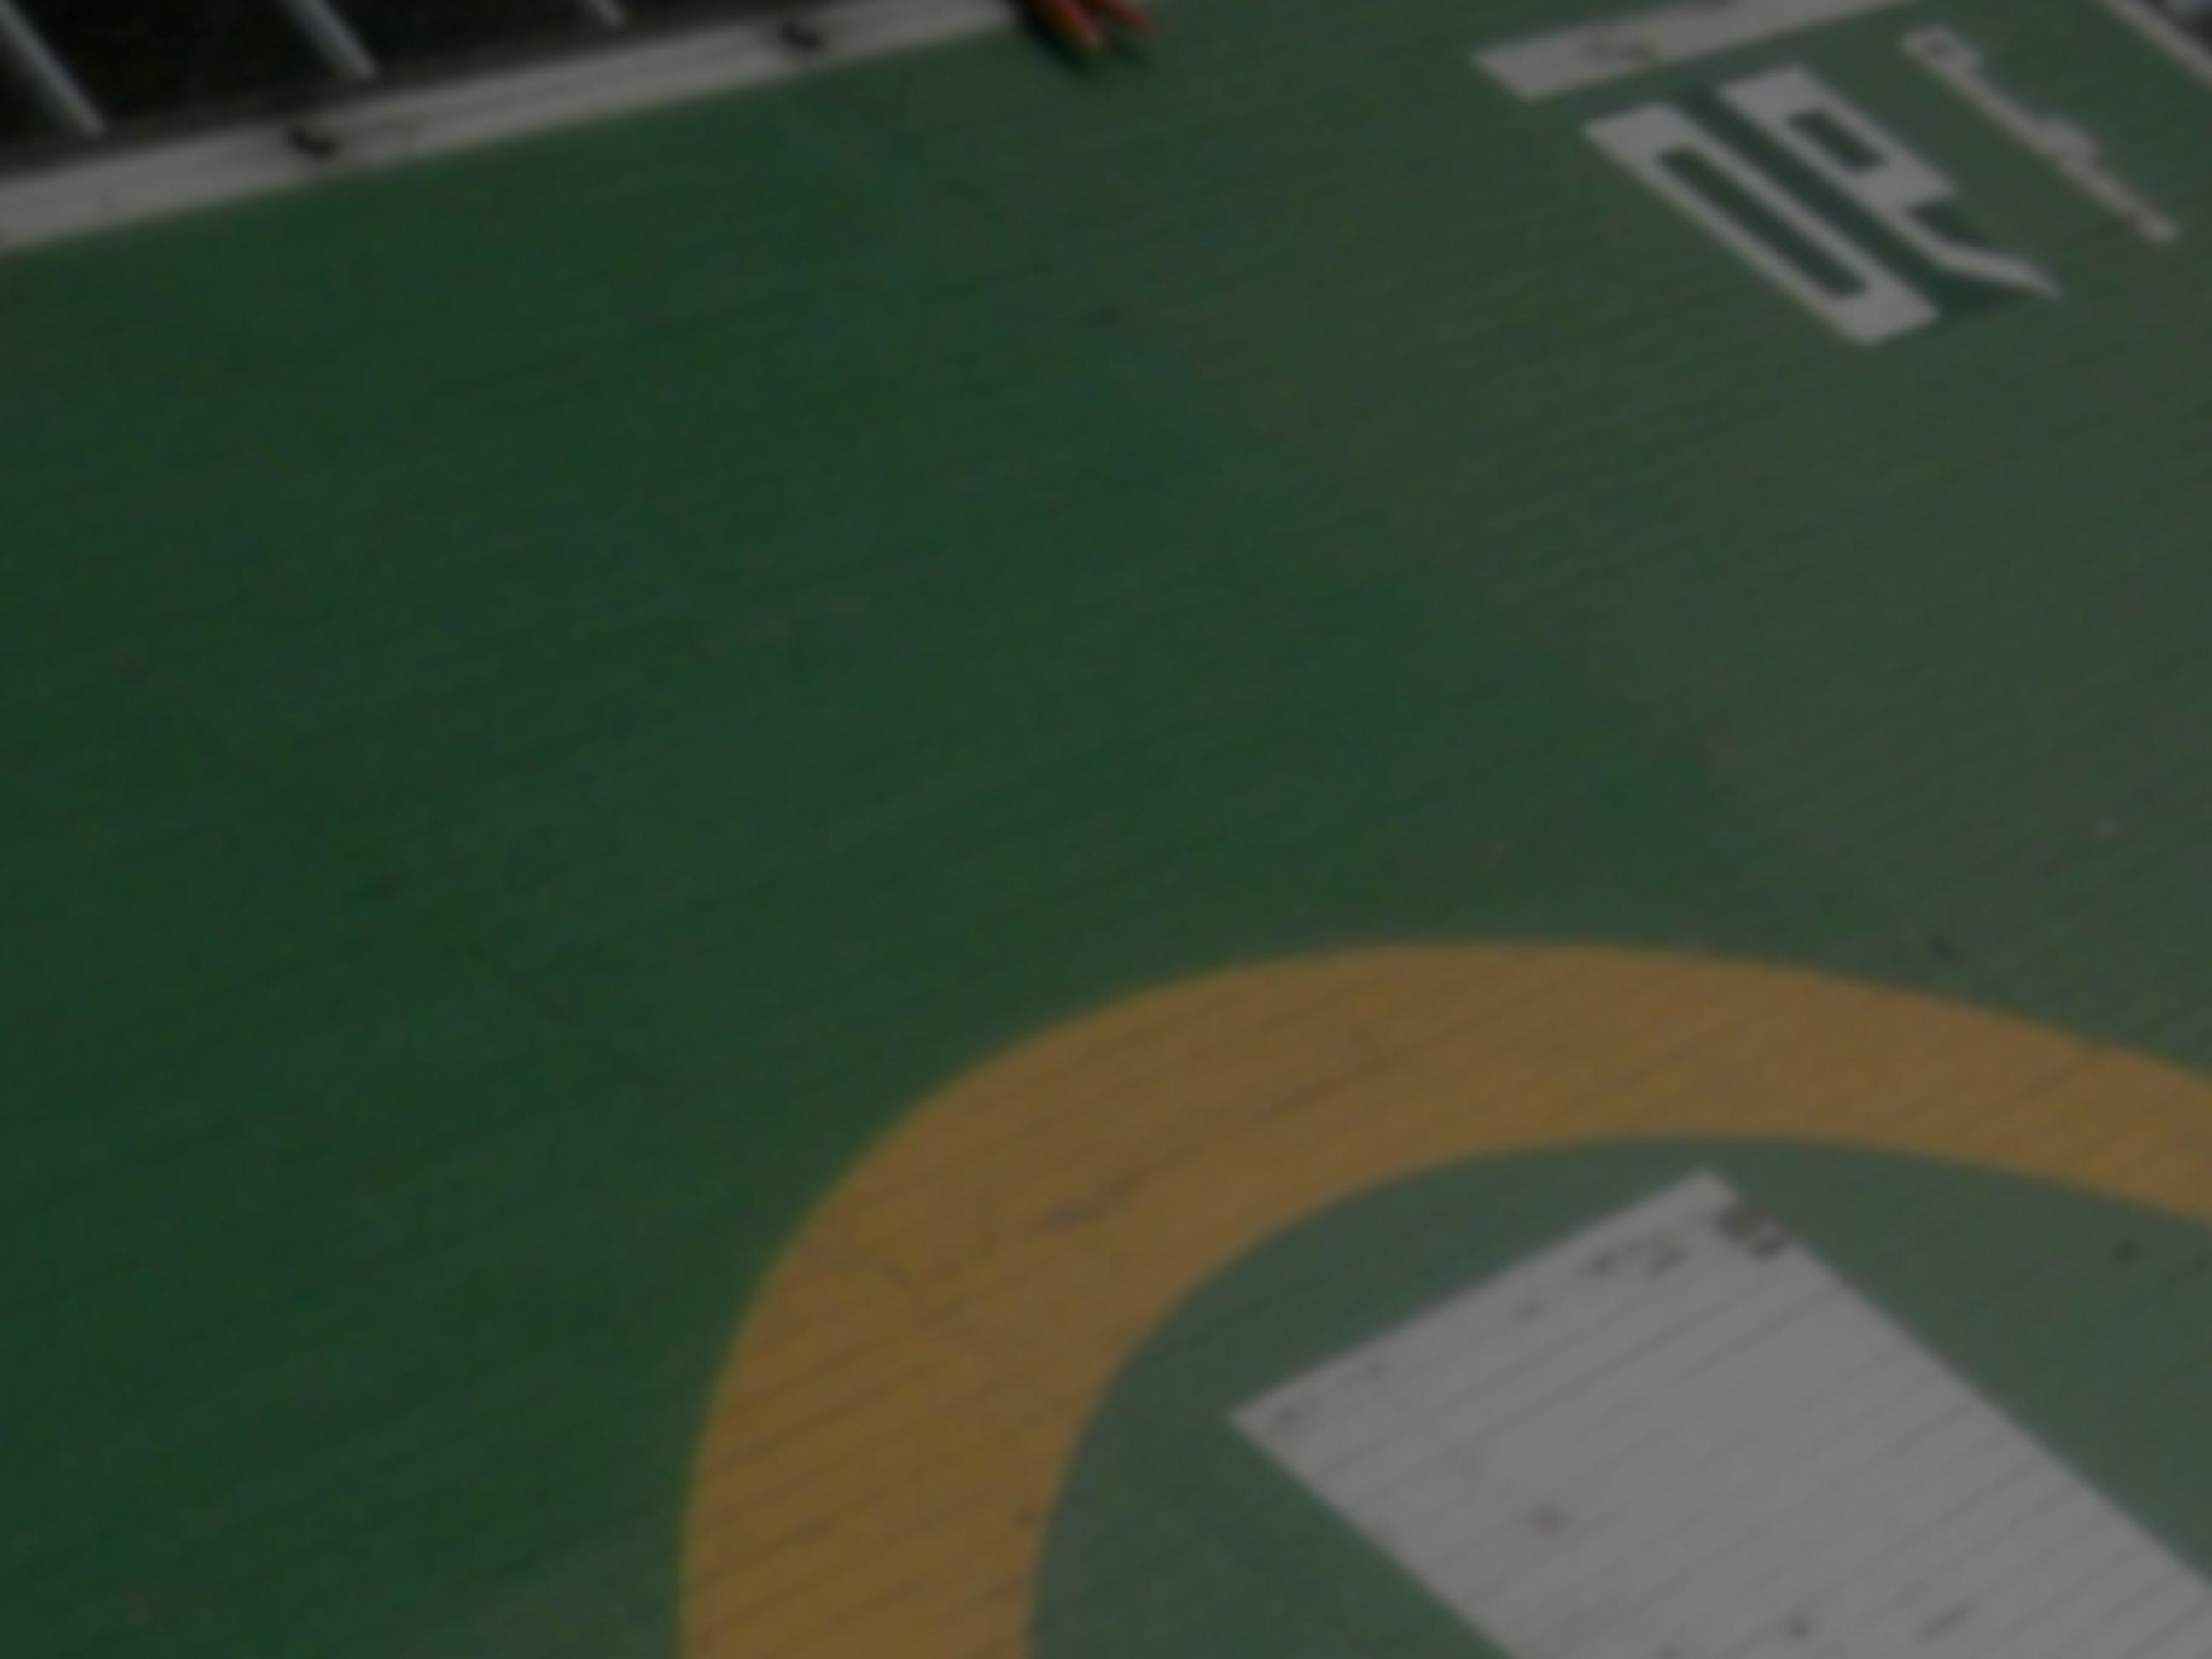Apron: (637, 843, 2212, 1659)
